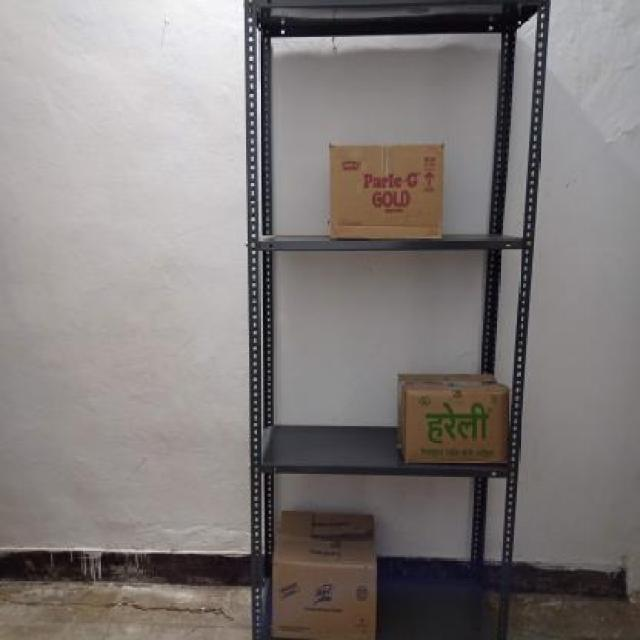box: (330, 144, 446, 242), (269, 560, 380, 640), (402, 388, 512, 467)
